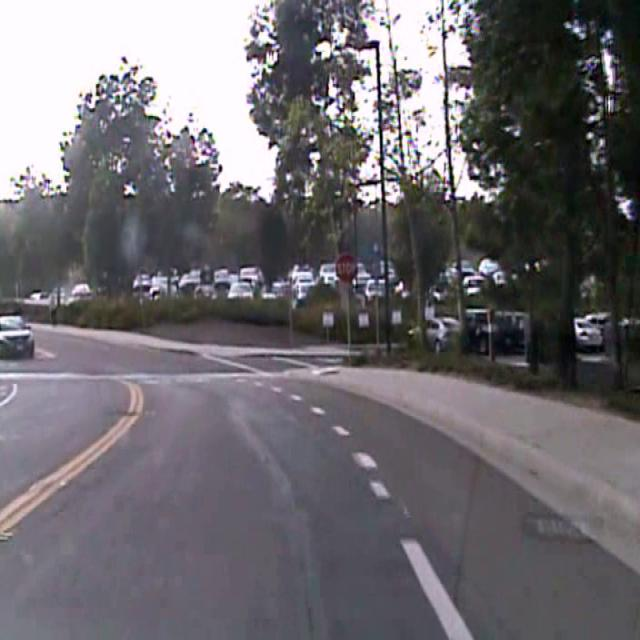stop_sign: (335, 251, 358, 284)
